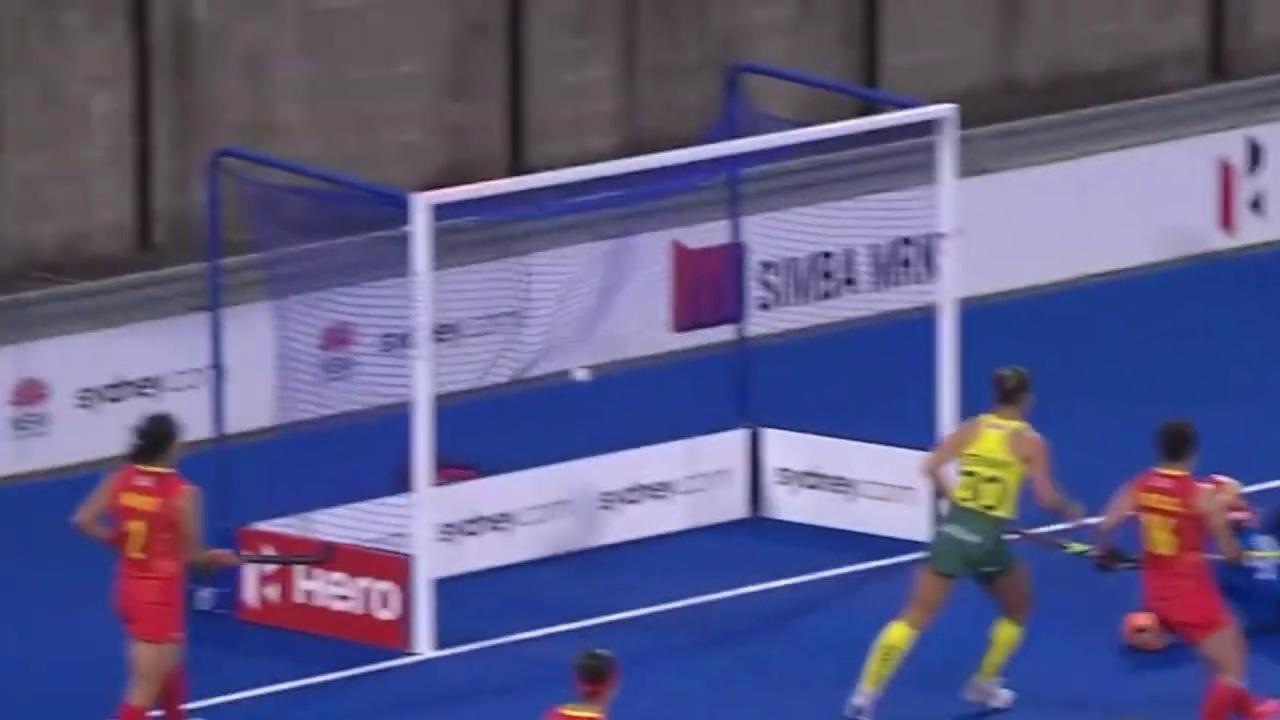ball: (565, 354, 604, 398)
